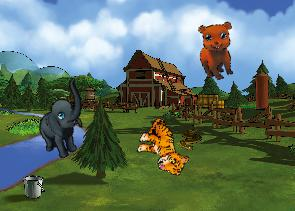bear: (190, 16, 247, 84)
elephant: (24, 77, 103, 163)
tiger: (130, 114, 199, 179)
